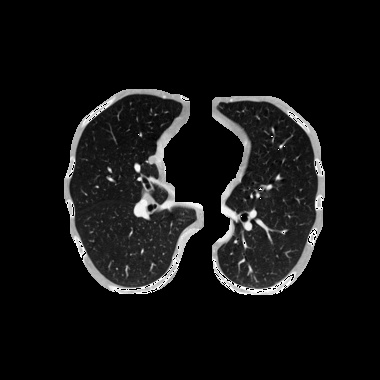PN: (147, 156, 155, 164)
